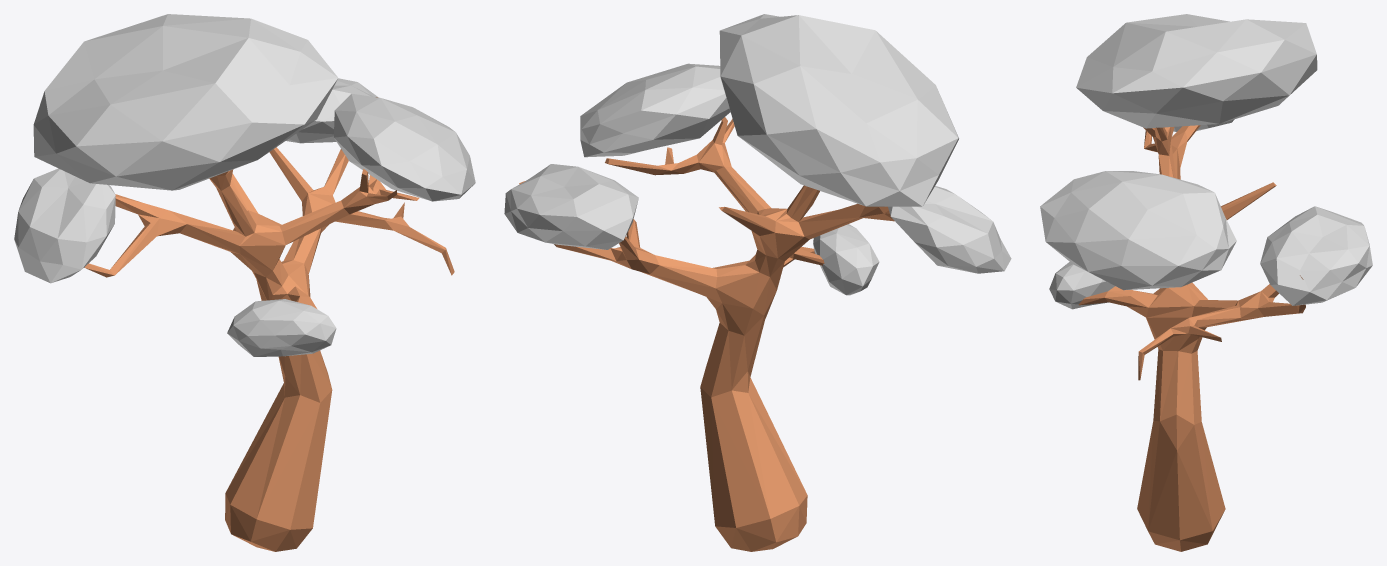
Rendered from _TREE.fbx.
The picture shows the model from 3 angles, left to right: view 1: azimuth 30°, elevation 25°; view 2: azimuth 150°, elevation 25°; view 3: azimuth 270°, elevation 25°; orthographic projection. The views are drawn at different scales.
Visible parts, largest first — view 1: tree1; view 2: tree1; view 3: tree1.
Boxes of the visible parts, x1,y1,x2,y2 form: tree1: (14,14,475,551); tree1: (504,14,1011,551); tree1: (1040,14,1372,551).
Bounding box in the file's own units: 499 × 588 × 356.
